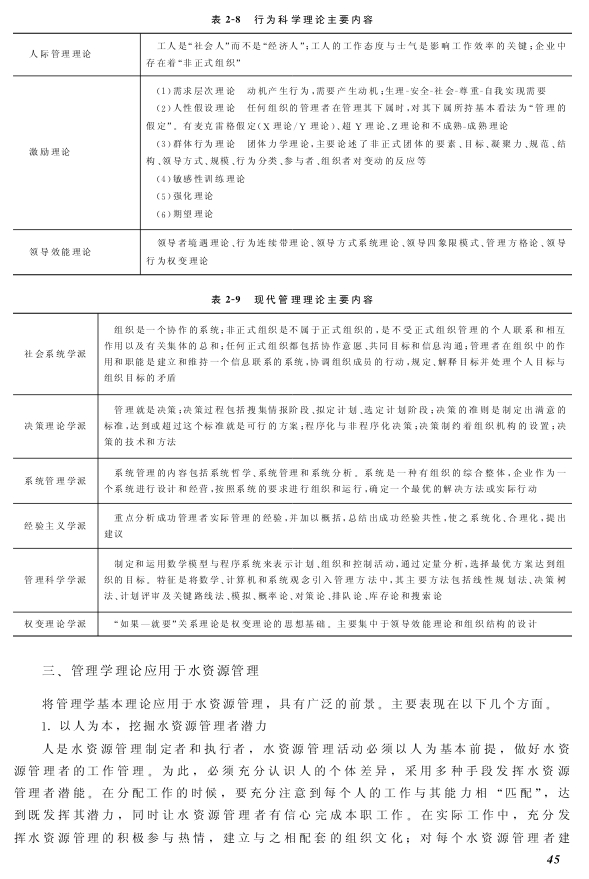table: (14, 312, 571, 637), (13, 32, 571, 276)
